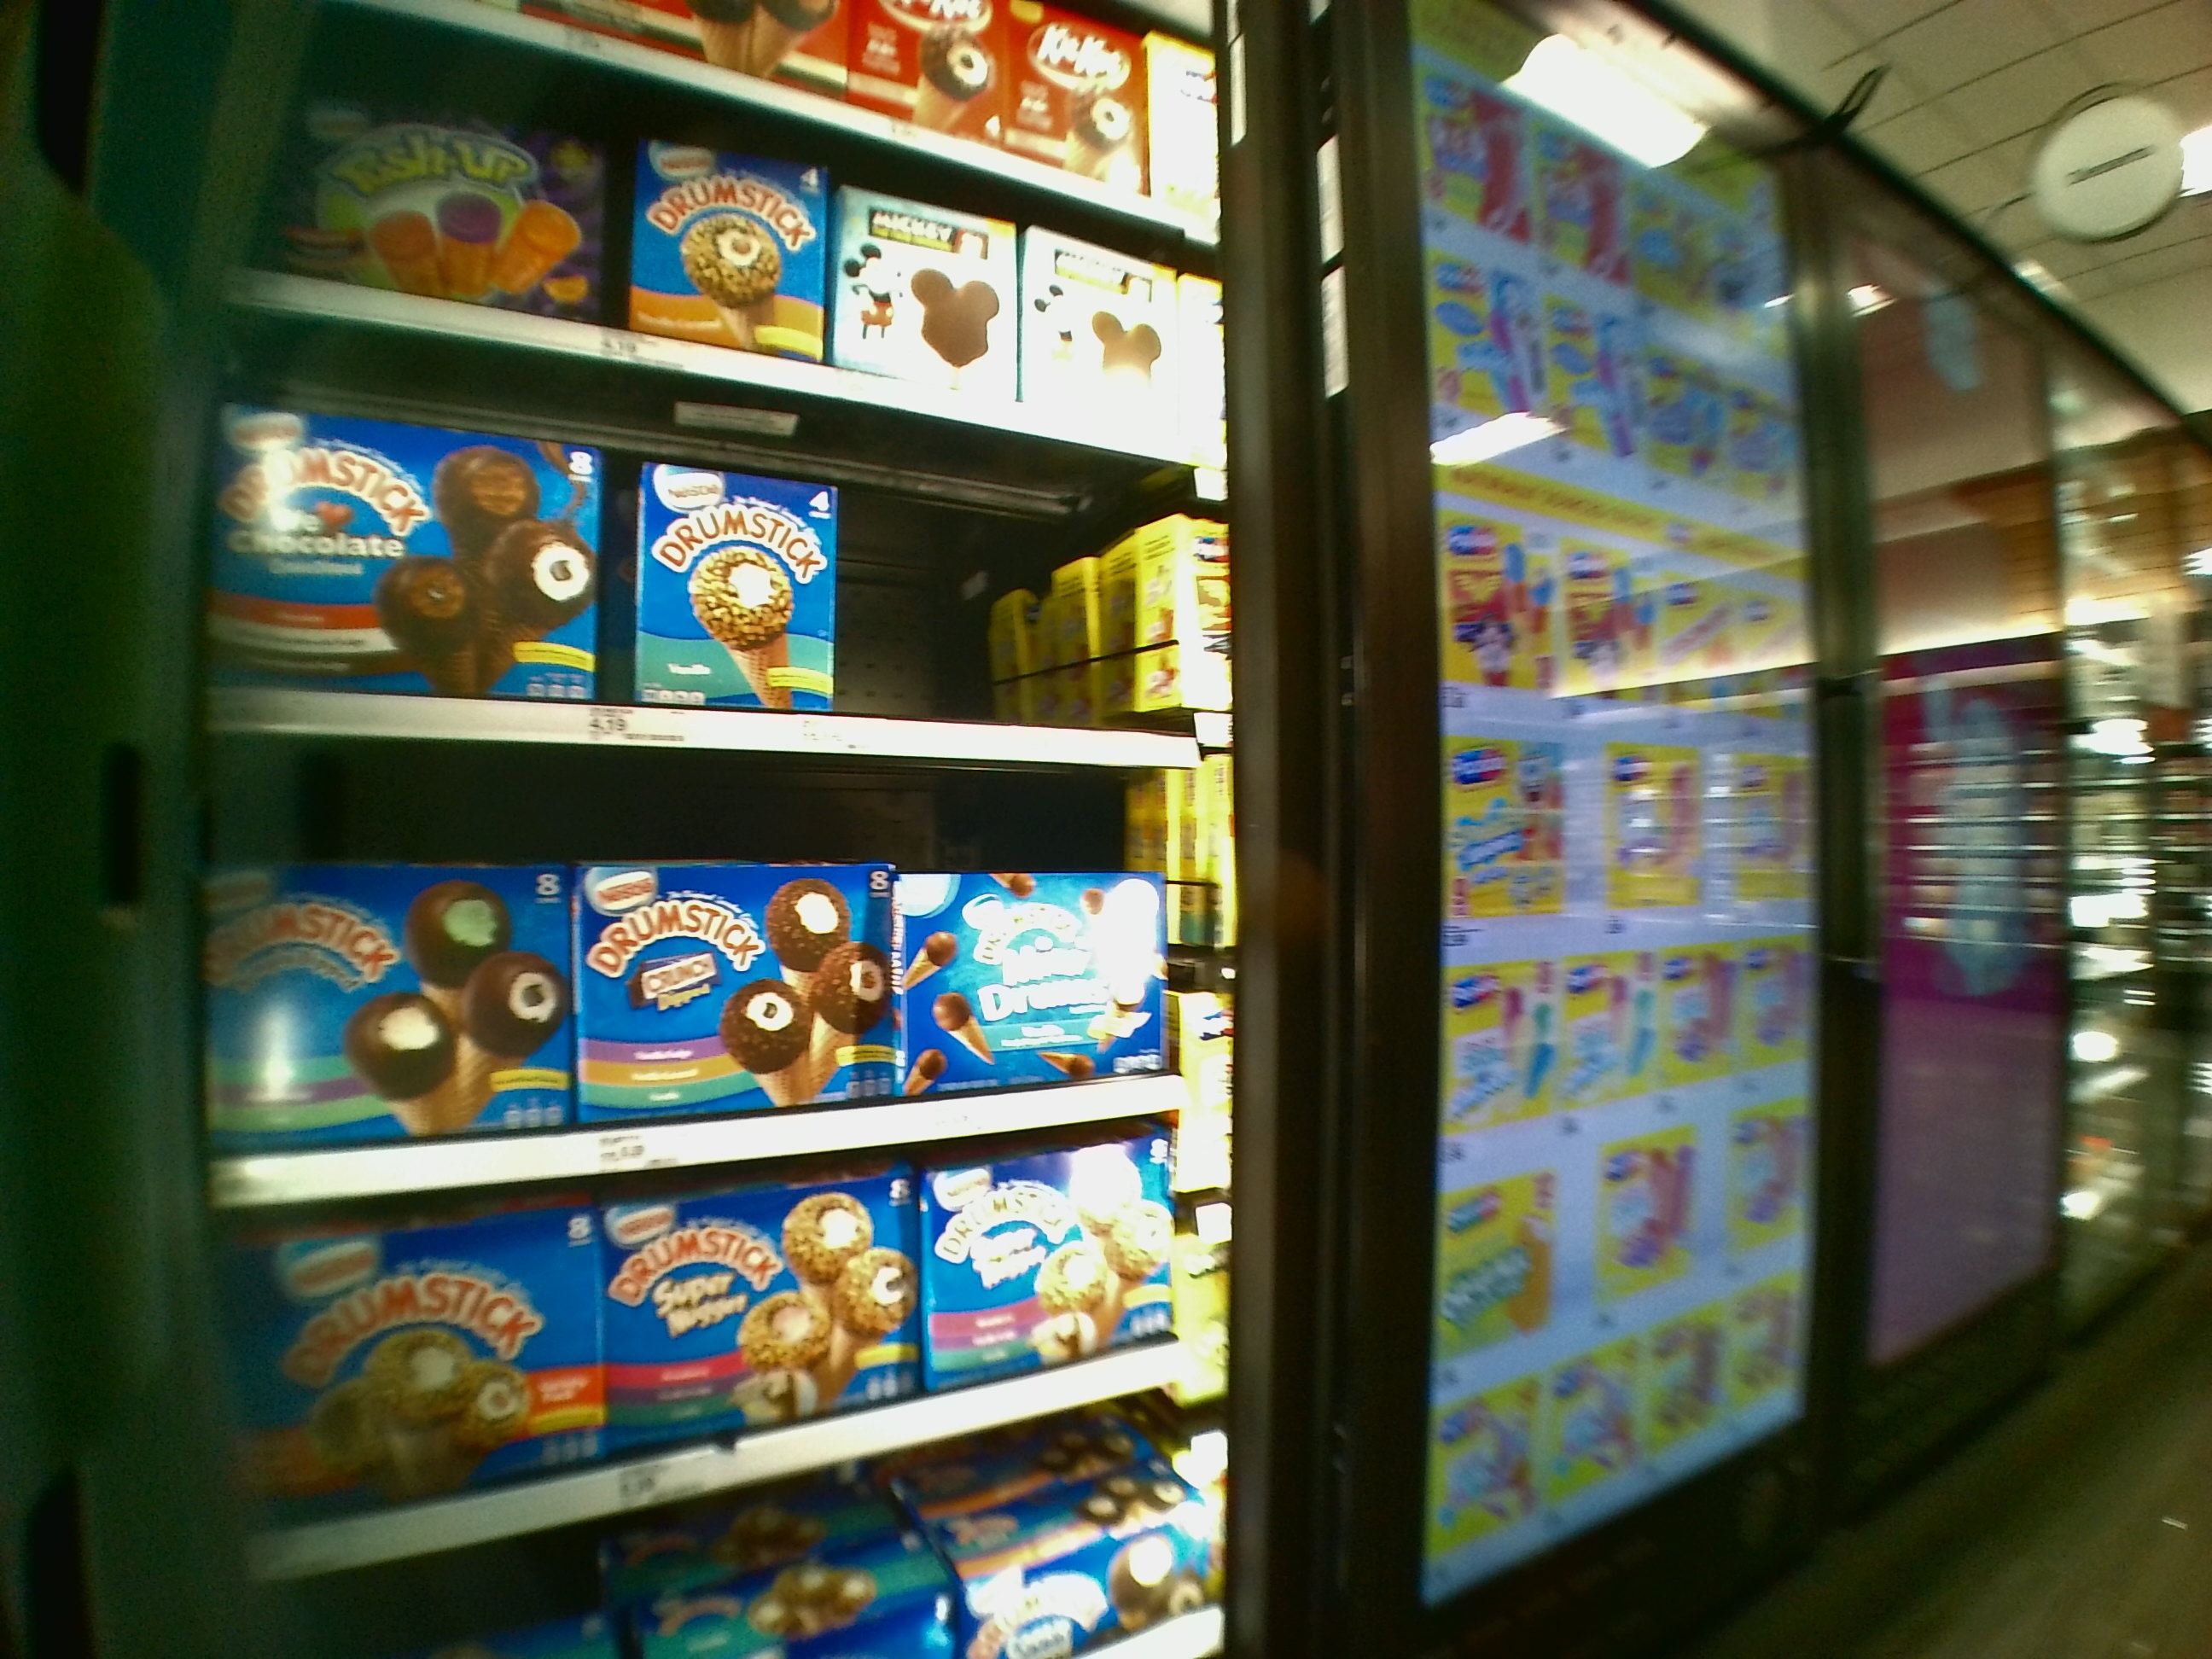shelf: (206, 741, 1221, 1183), (209, 350, 1216, 758), (216, 1187, 1212, 1520)
